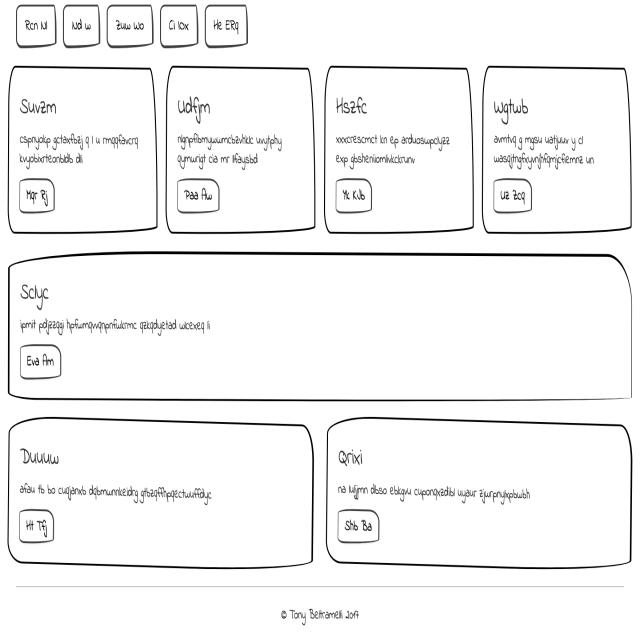Button: (173, 180, 225, 218), (332, 180, 378, 212), (14, 508, 57, 542), (16, 180, 58, 214), (23, 346, 66, 378), (335, 514, 381, 542), (493, 180, 533, 212)
Card: (7, 258, 631, 404), (5, 427, 314, 565), (325, 432, 631, 562), (163, 65, 315, 232), (326, 74, 476, 242), (7, 70, 156, 231), (490, 74, 625, 228)
Footer: (12, 580, 638, 640)
Heading 6: (489, 88, 542, 134), (14, 444, 81, 476), (19, 87, 79, 120), (14, 277, 59, 313), (334, 93, 384, 121), (168, 100, 220, 122), (332, 449, 370, 471)
Navigation Bar: (1, 6, 258, 48)
Paragraph: (336, 480, 542, 510), (17, 130, 149, 170), (327, 130, 453, 168), (18, 318, 211, 342), (14, 483, 229, 503), (173, 136, 299, 170), (493, 136, 596, 171)
